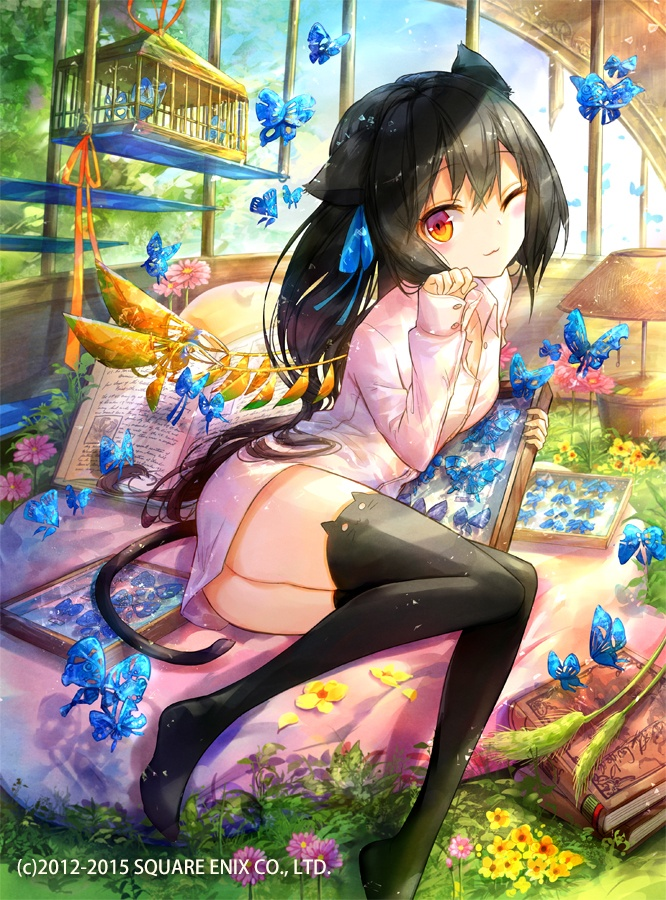纸片人正脸: (317, 64, 556, 295)
